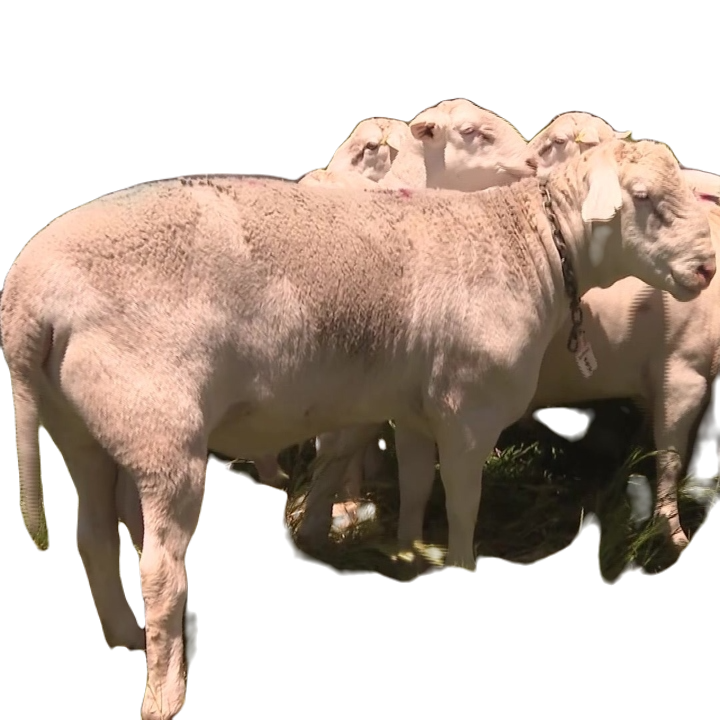Sheep: (0, 138, 719, 719)
